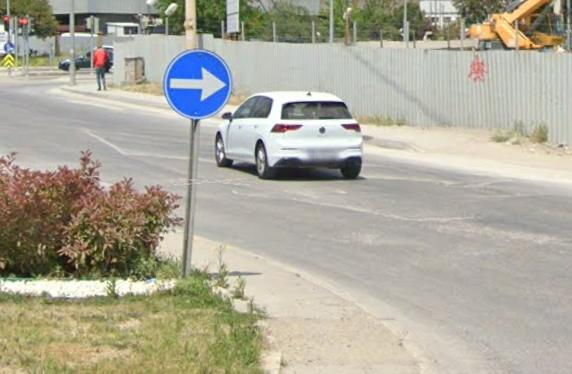turnright: (164, 53, 231, 117)
